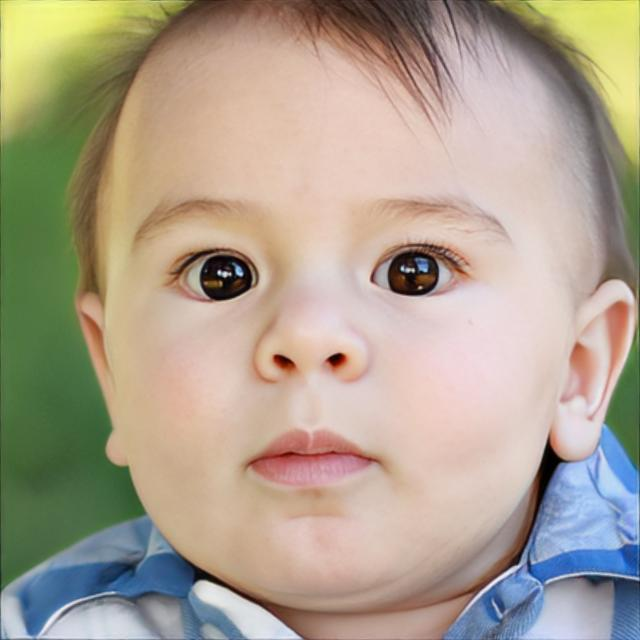surprise: (103, 2, 574, 598)
